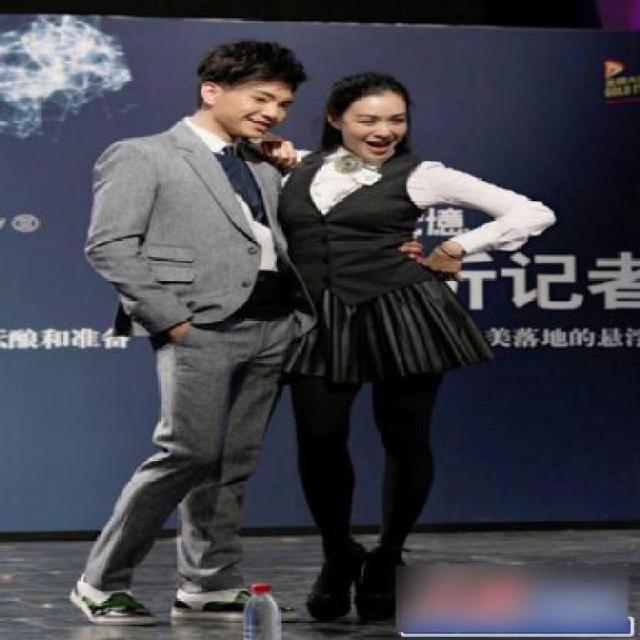Person: (72, 38, 299, 633), (291, 59, 491, 639)
